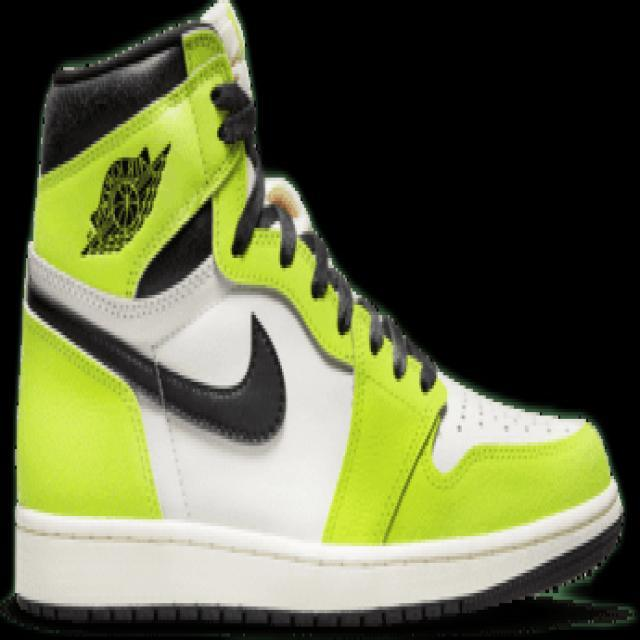J1_MateComp: (11, 0, 625, 627)
J1_ShoeLogo: (78, 140, 172, 257)
J1_StitchPattern: (258, 173, 589, 444), (12, 487, 625, 623), (26, 281, 288, 442), (261, 175, 440, 393), (9, 594, 634, 631), (262, 177, 358, 334), (441, 371, 589, 443), (377, 401, 449, 545), (57, 16, 215, 73), (144, 342, 195, 518), (363, 304, 439, 392), (300, 231, 357, 332)
